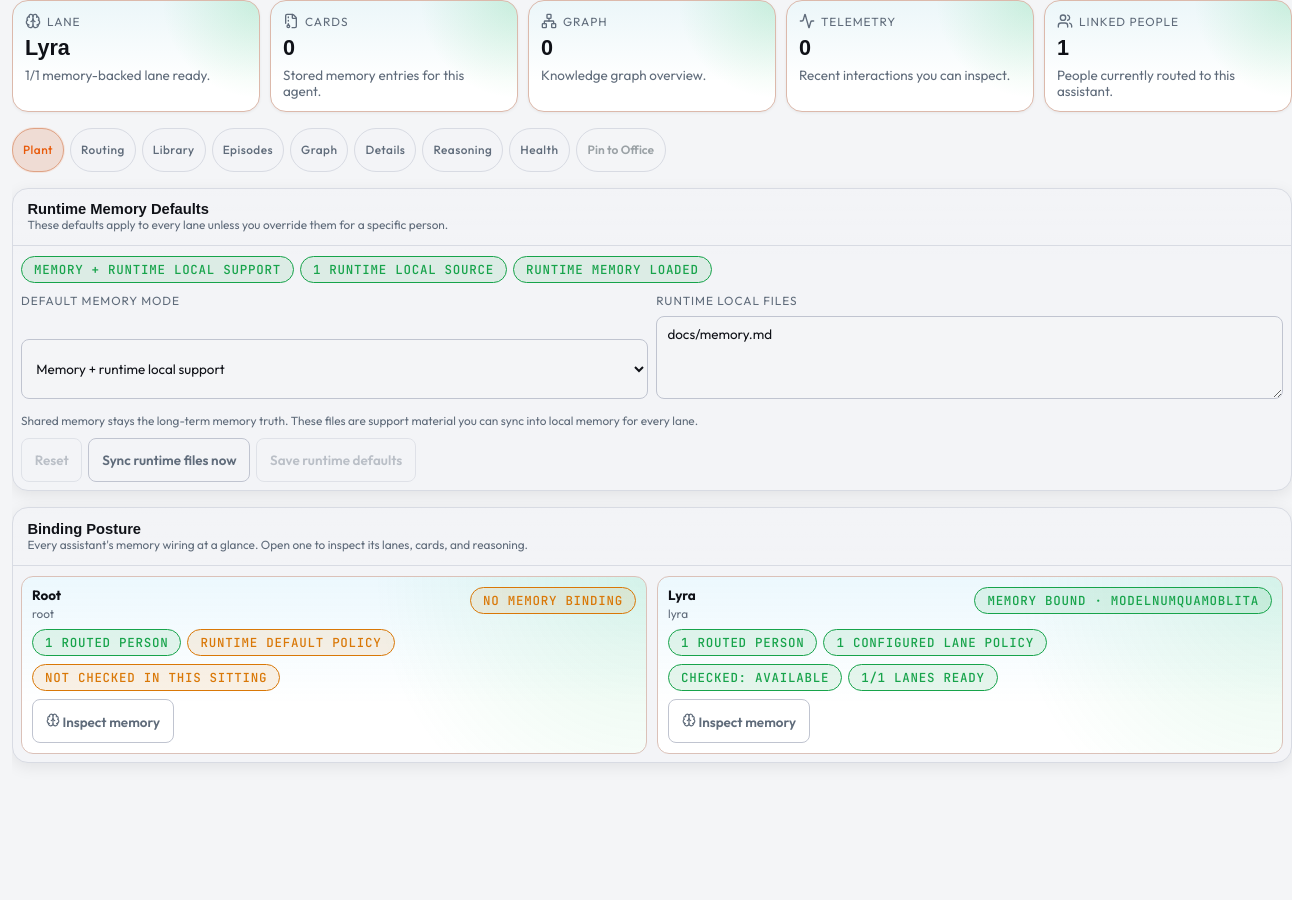
Test: MemoryPage agent switching, stale responses, and cache isolation › discards a slow response from a previously selected agent
The image size is (1292, 900).
Click the button "Library": [174, 150] box x1=142 y1=128 x2=206 y2=172
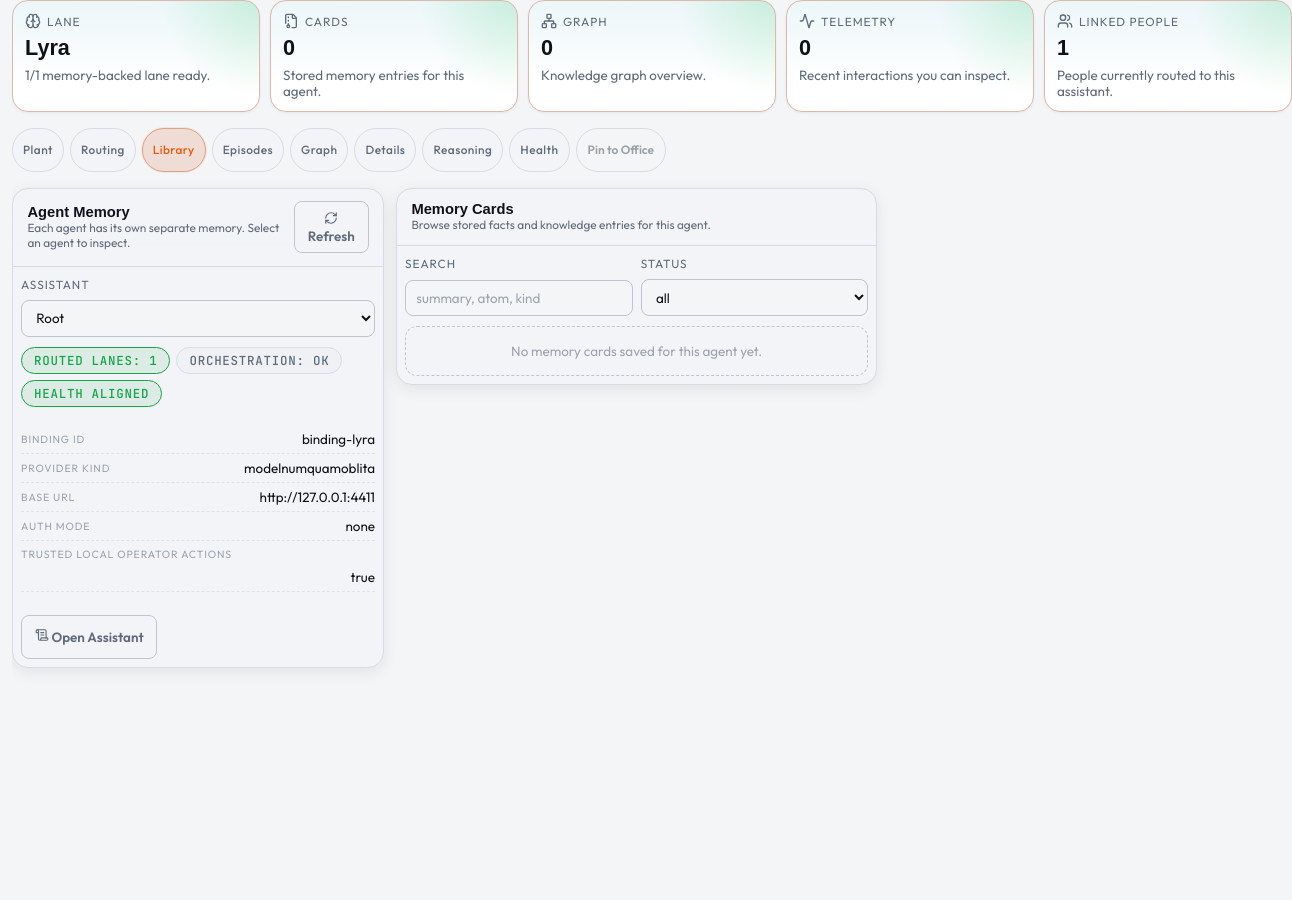
Result: the dropdown labelled "Assistant" is shown
Select "Root" in the dropdown labelled "Assistant": [198, 318] box x1=21 y1=300 x2=375 y2=337
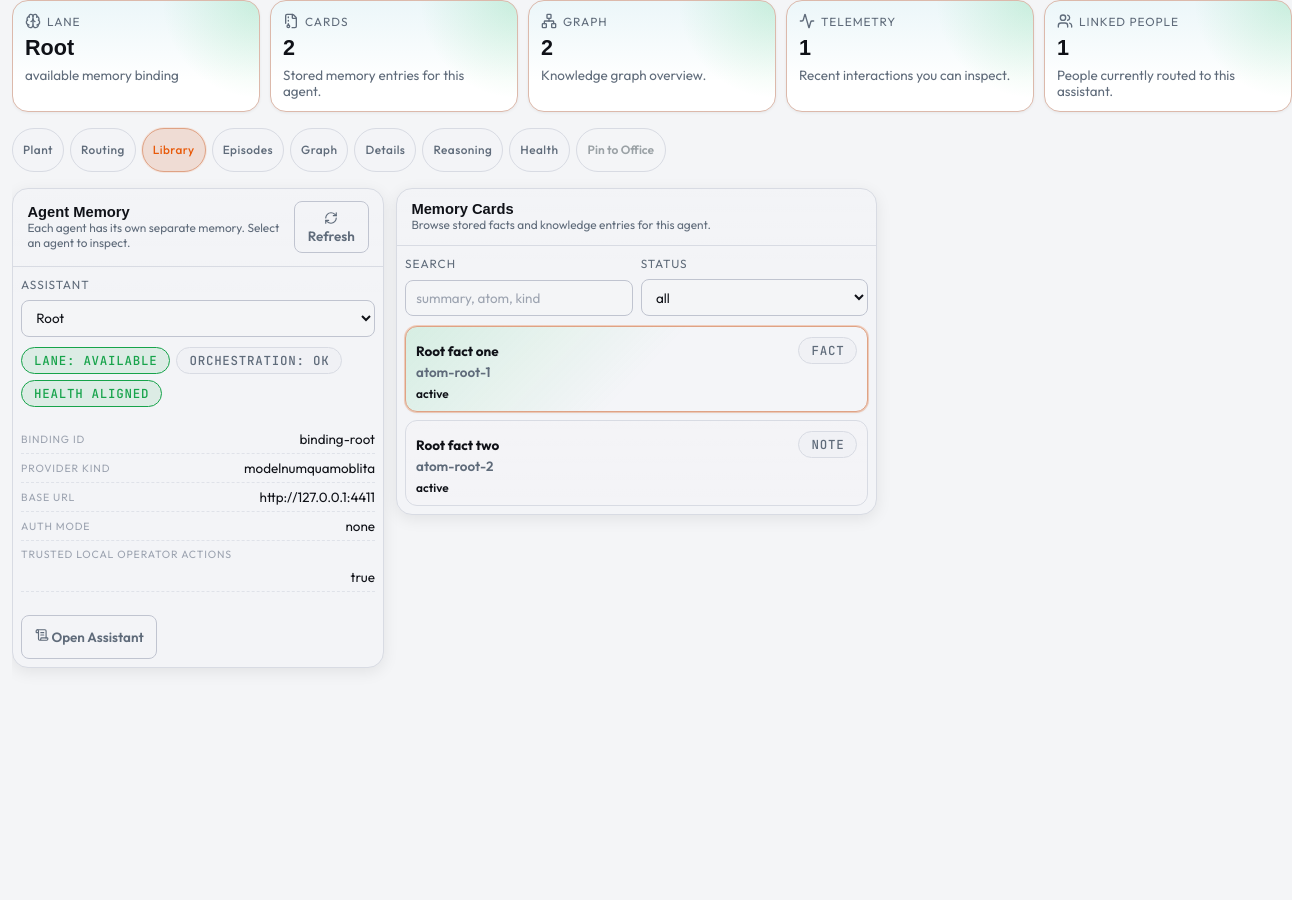
Result: the text "Root fact one" is shown at x1=416 y1=343 x2=498 y2=359
